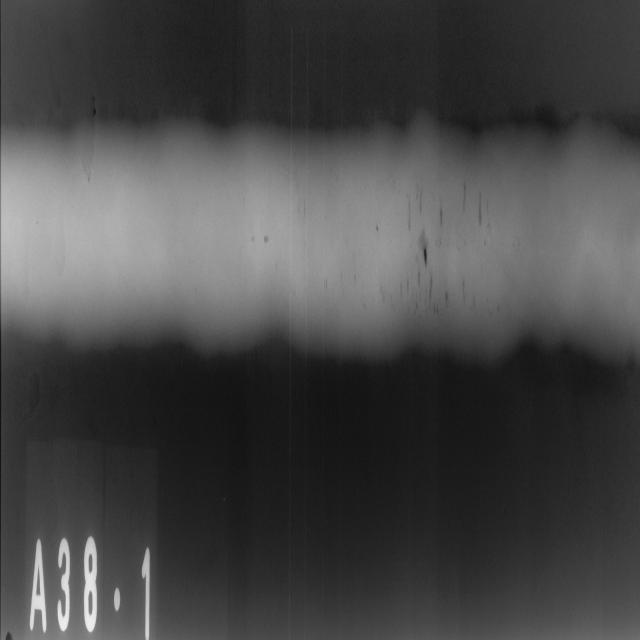FF: (48, 204, 70, 288)
IE: (358, 156, 504, 334), (91, 85, 99, 123)
PO: (249, 222, 275, 260)
